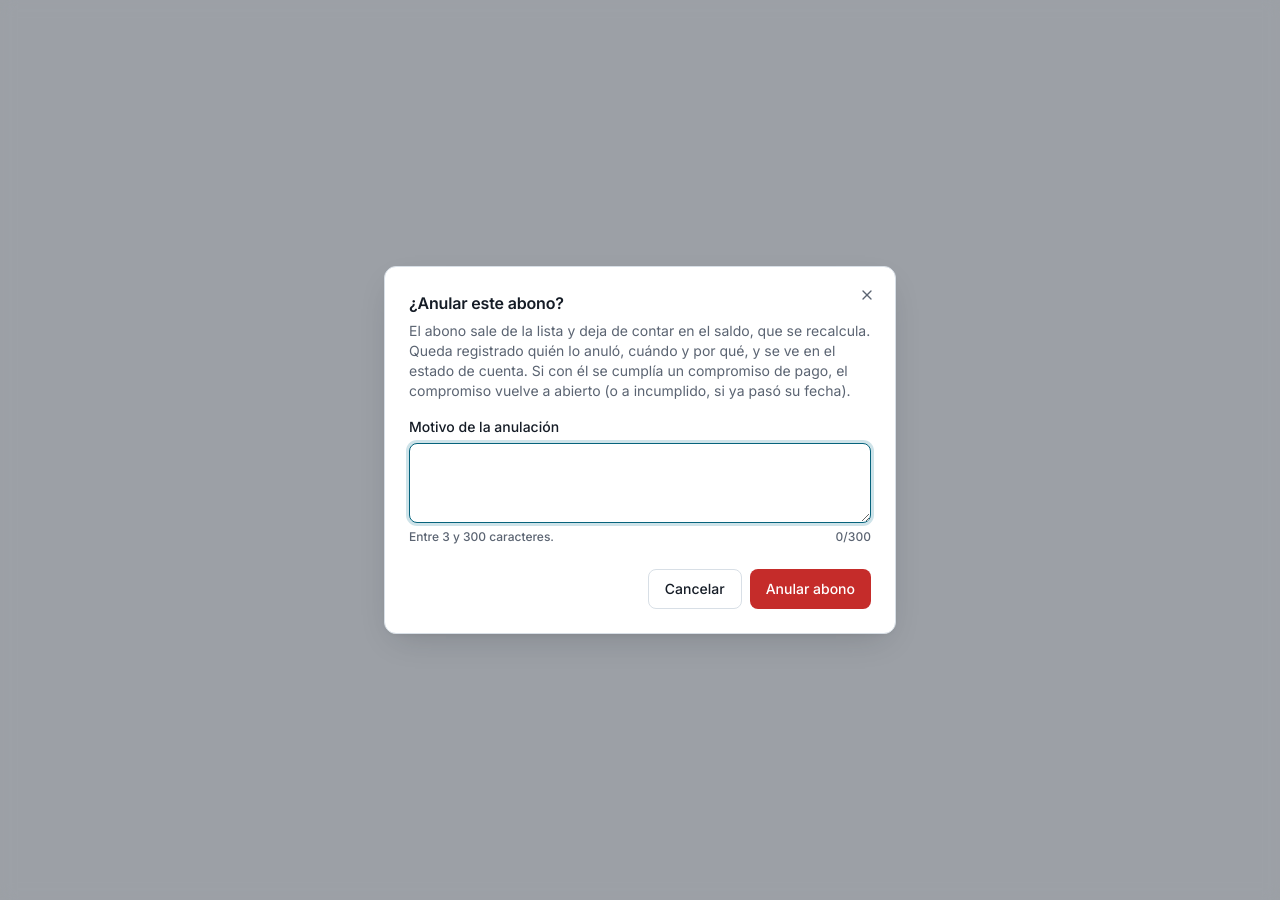
it: VoidPaymentModal › cuenta los caracteres usados
In the text box labelled "Motivo de la anulación": (640, 483) [409,443,871,523], type "Hola"
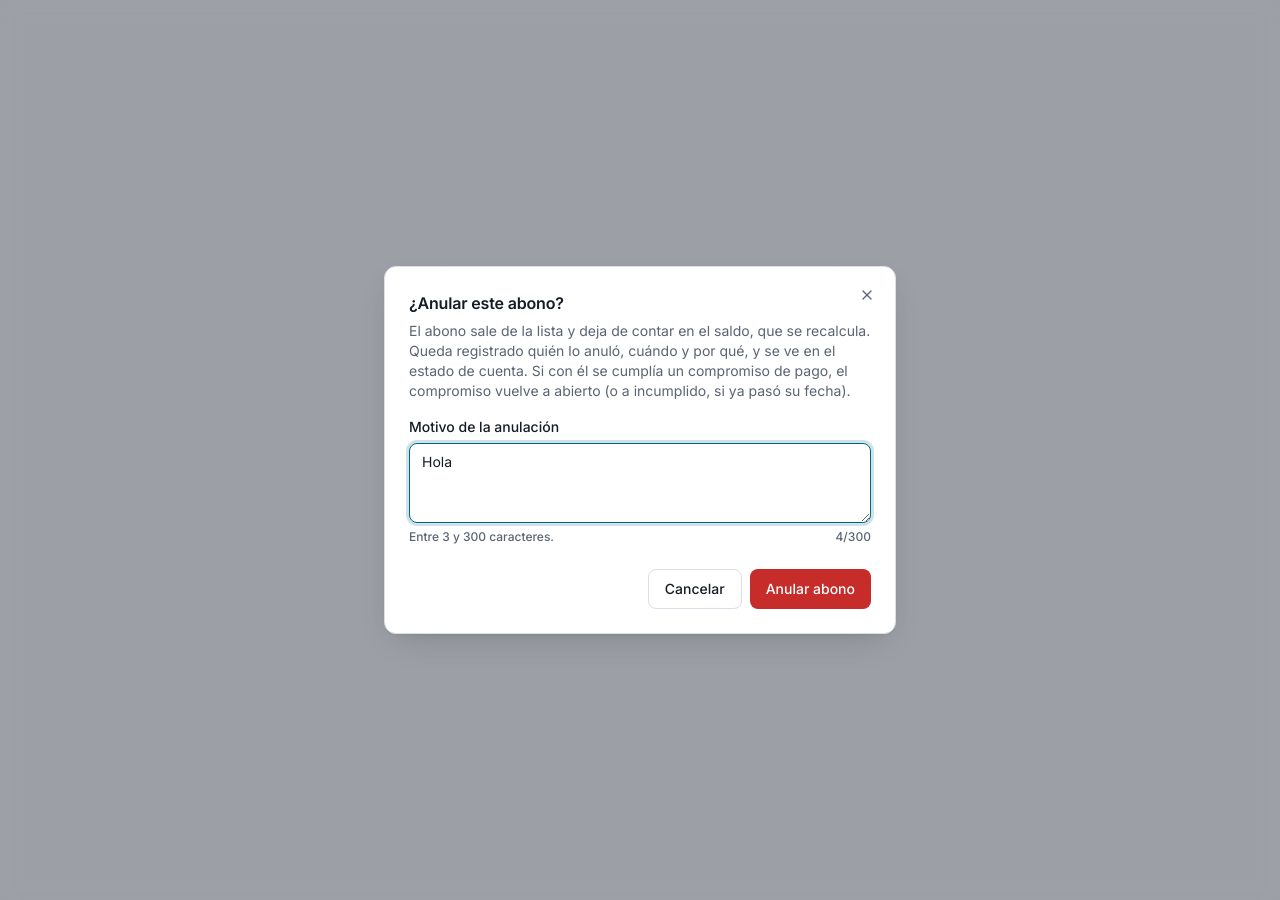
Check: the text "4/300" is shown, box [836,529,871,545]
